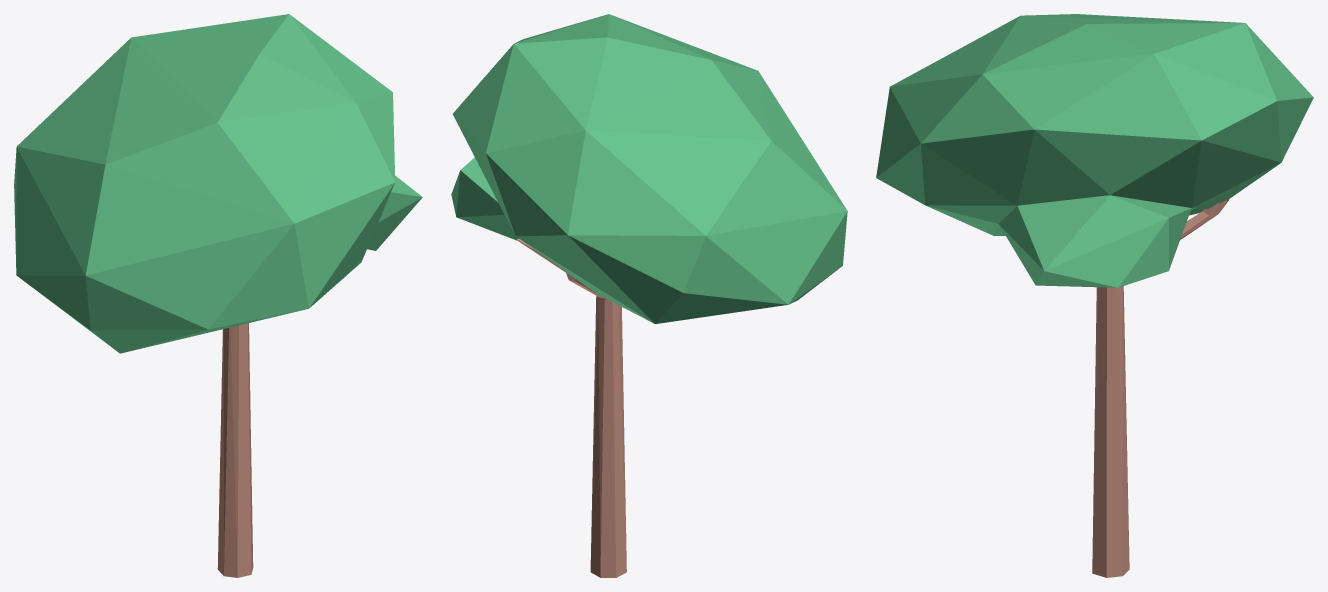
File: tree28.fbx
3 views of the same model, side by side, from view 1: azimuth 30°, elevation 25°; view 2: azimuth 150°, elevation 25°; view 3: azimuth 270°, elevation 25° (orthographic). The views are drawn at different scales.
Parts seen in each view (by area): view 1: treetype28; view 2: treetype28; view 3: treetype28.
Boxes of the visible parts, x1,y1,x2,y2 form: treetype28: [14, 14, 422, 577]; treetype28: [451, 14, 847, 577]; treetype28: [876, 14, 1313, 577].
Size of the model in its own units: 136 by 192 by 137.
